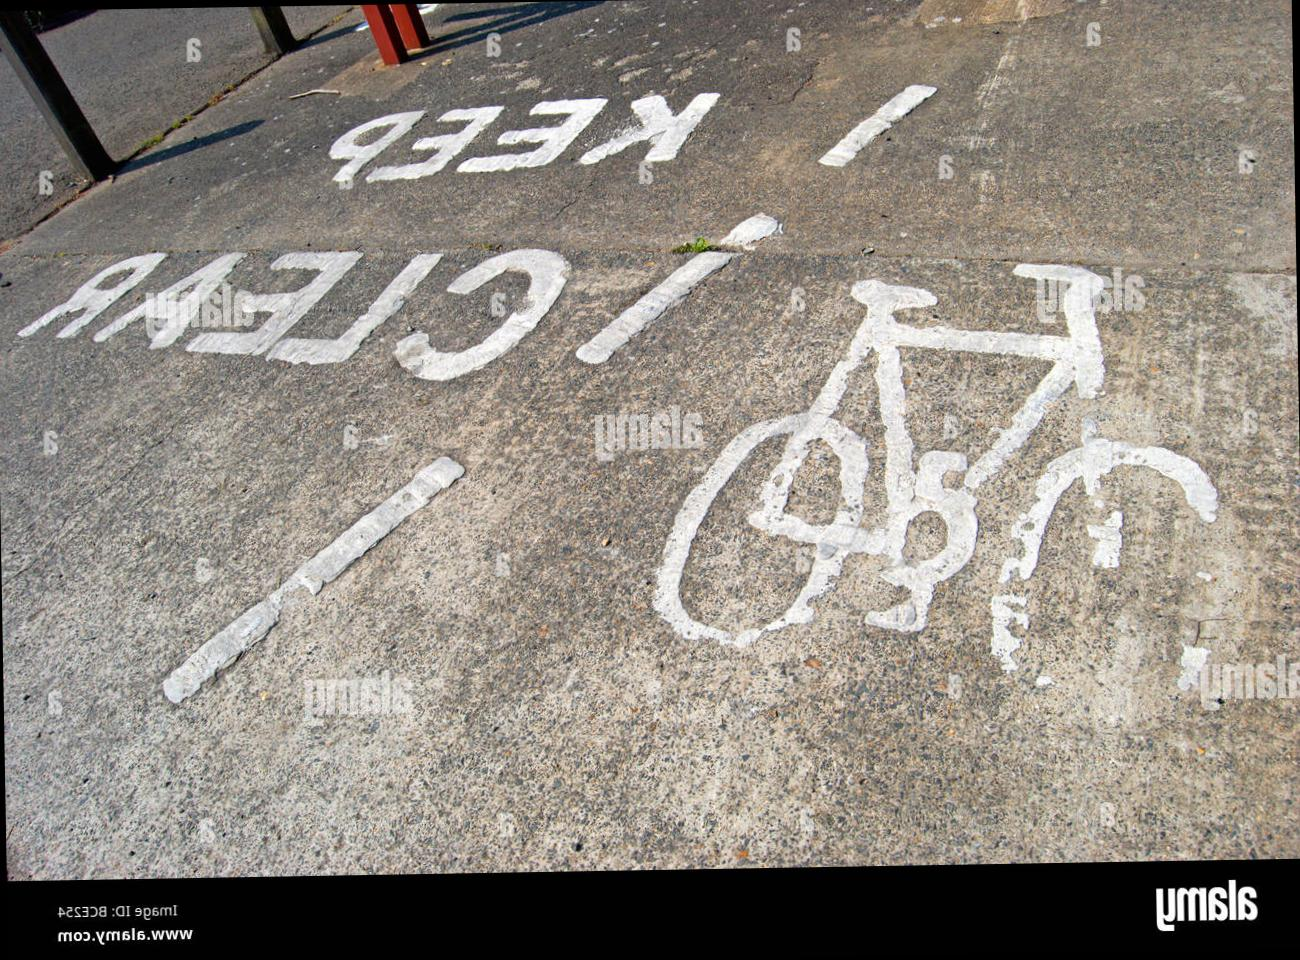faded_road_lines: (629, 243, 1234, 718), (12, 245, 569, 391), (152, 460, 465, 719), (260, 86, 739, 210), (568, 215, 781, 375), (809, 79, 943, 182)
